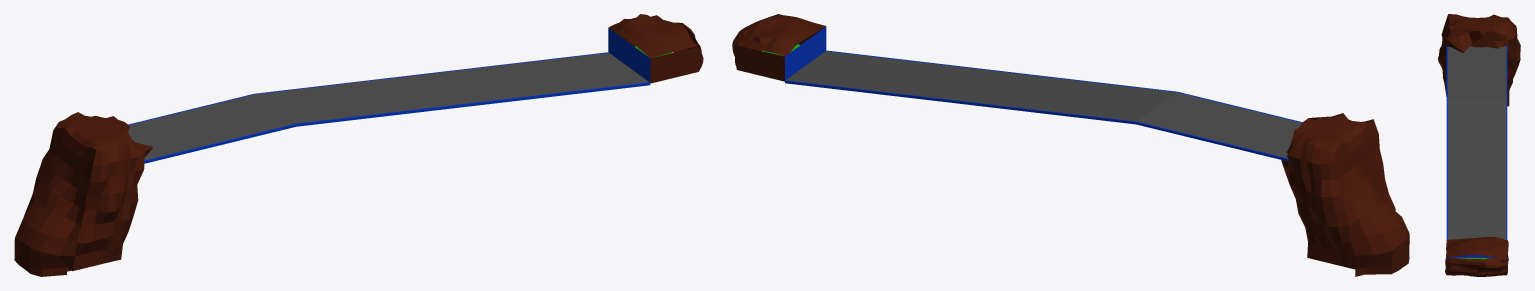
The model's file is RoadPartZ1APart.obj.
The picture shows the model from 3 angles, left to right: view 1: azimuth 30°, elevation 25°; view 2: azimuth 150°, elevation 25°; view 3: azimuth 270°, elevation 25°; orthographic projection. The views are drawn at different scales.
Visible parts, largest first — view 1: RoadA, Cube; view 2: RoadA, Cube; view 3: RoadA, Cube.
Boxes of the visible parts, box(x1,y1,x2,y2) form: RoadA: box(128, 14, 703, 163); Cube: box(14, 112, 152, 276); RoadA: box(732, 14, 1302, 161); Cube: box(1281, 113, 1409, 276); RoadA: box(1445, 45, 1508, 276); Cube: box(1438, 14, 1520, 106).
Bounding box in the file's own units: 110 × 19.52 × 16.33.
